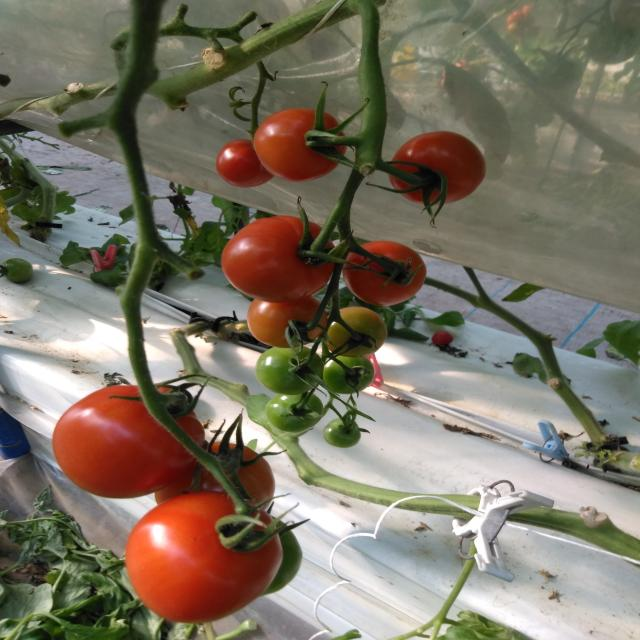c-half-riped: (323, 306, 388, 358)
c-riped: (124, 490, 284, 624), (51, 383, 205, 499), (220, 215, 336, 303), (154, 442, 276, 510), (388, 130, 486, 205), (254, 108, 347, 182), (342, 240, 427, 306), (247, 296, 328, 348), (216, 140, 276, 188)
c-unriped: (257, 514, 303, 598), (255, 346, 324, 396), (266, 392, 324, 432), (322, 354, 375, 395), (322, 417, 361, 448)
